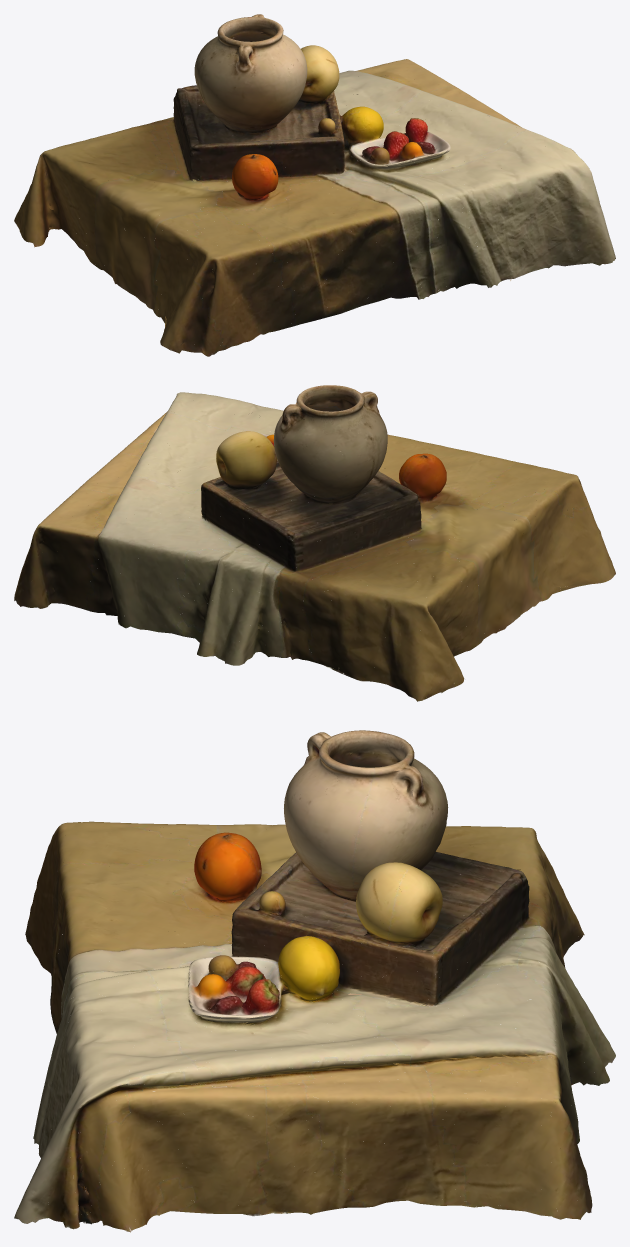
The model's file is 静物_其它_陶罐水果组合01_opt.glb.
3 renders of one model, top to bottom at view 1: azimuth 30°, elevation 25°; view 2: azimuth 150°, elevation 25°; view 3: azimuth 270°, elevation 25°, orthographic. The views are drawn at different scales.
Visible parts, largest first — view 1: defaultMat, defaultMat_1; view 2: defaultMat, defaultMat_1; view 3: defaultMat, defaultMat_1.
Part boxes in pixels (<box>): defaultMat: <box>14,14,615,356</box>; defaultMat_1: <box>14,16,615,356</box>; defaultMat: <box>14,385,615,701</box>; defaultMat_1: <box>17,389,613,700</box>; defaultMat: <box>14,730,615,1232</box>; defaultMat_1: <box>16,738,603,1226</box>.
Size of the model in its own units: 1.34 by 0.6 by 1.09.
Materials: 1 (1 with a texture image).
